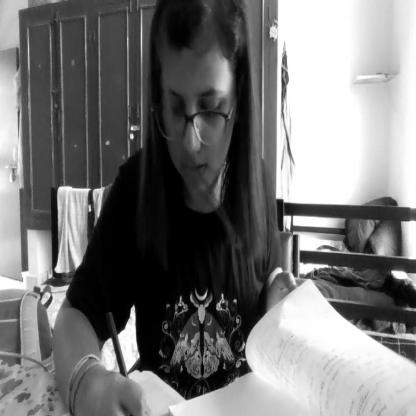Distracted: (149, 0, 242, 204)
